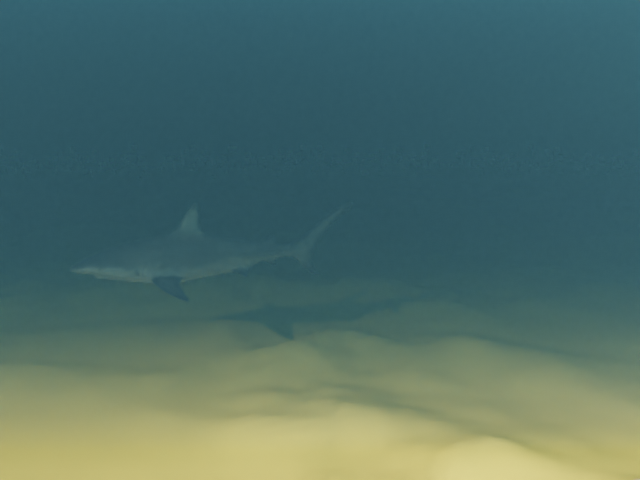Carribean Shark.001: (69, 201, 353, 301)
